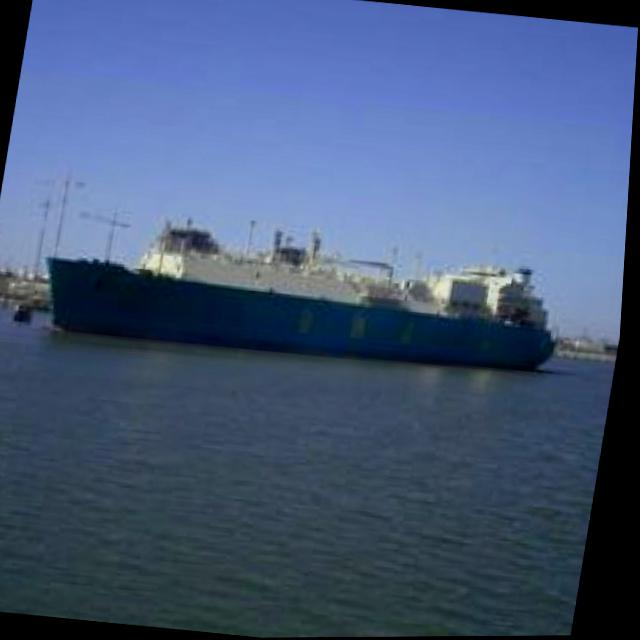ship2: (51, 215, 559, 373)
